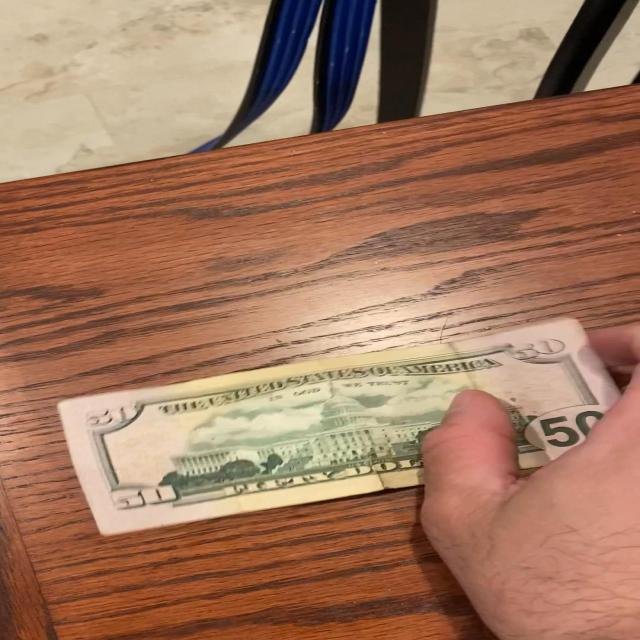50-Back: (51, 309, 632, 544)
